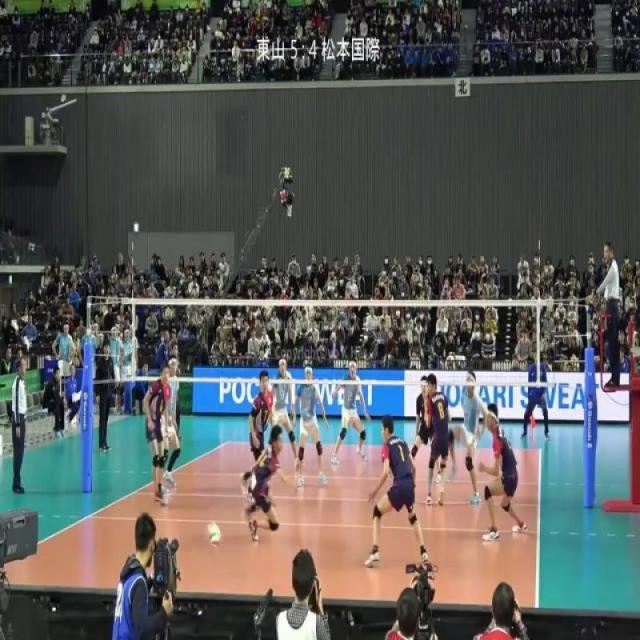volleyball: (205, 522, 222, 550)
